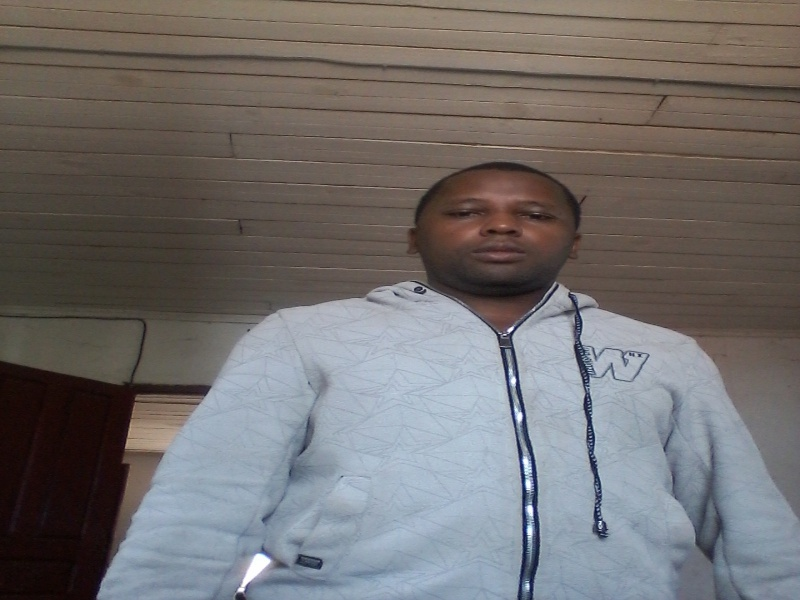TsisyArotava: (397, 145, 598, 305)
